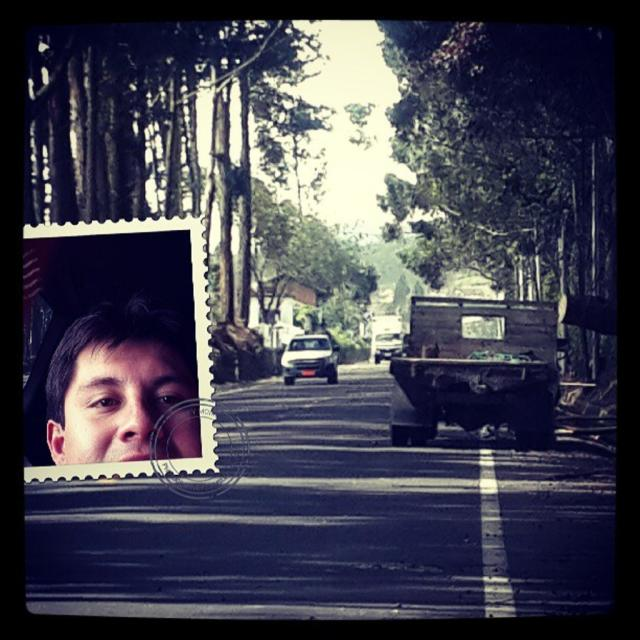car: (284, 329, 338, 376), (370, 333, 401, 355)
